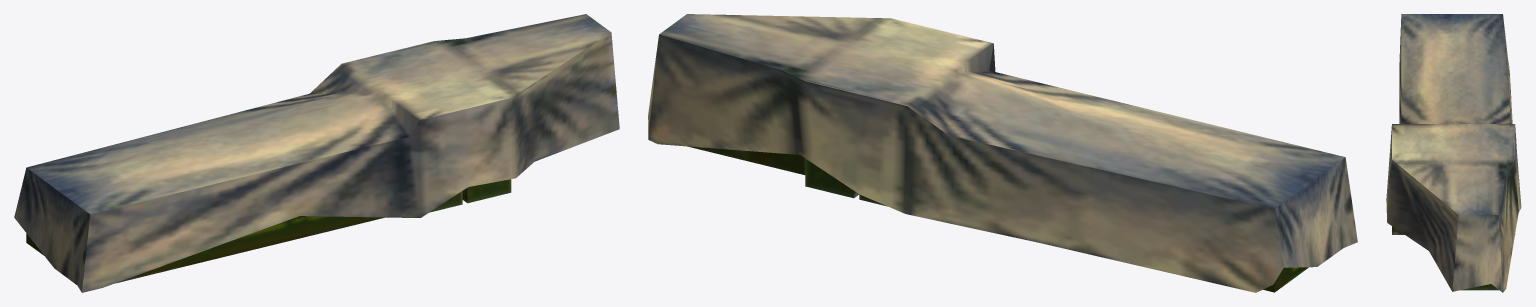
The model's file is TarpAmmo.glb.
The picture shows the model from 3 angles, left to right: view 1: azimuth 30°, elevation 25°; view 2: azimuth 150°, elevation 25°; view 3: azimuth 270°, elevation 25°; orthographic projection. The views are drawn at different scales.
Visible parts, largest first — view 1: TARPAMMO; view 2: TARPAMMO; view 3: TARPAMMO.
Boxes of the visible parts, bbox=[...] form: TARPAMMO: bbox=[14, 14, 619, 292]; TARPAMMO: bbox=[648, 14, 1357, 292]; TARPAMMO: bbox=[1386, 14, 1521, 292].
Size of the model in its own units: 2.23 by 0.346 by 0.562.
1 material, 1 textured.
